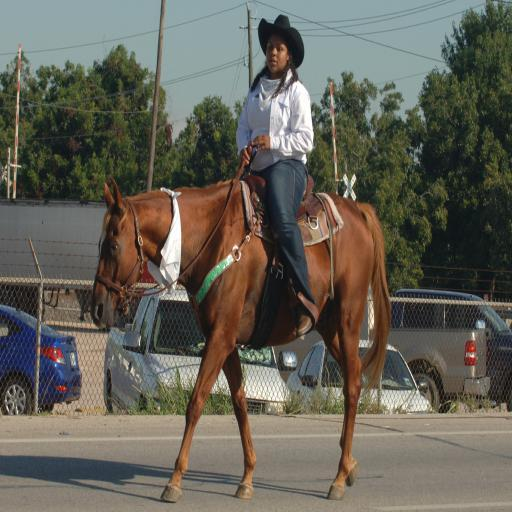Horse: (88, 178, 395, 501)
